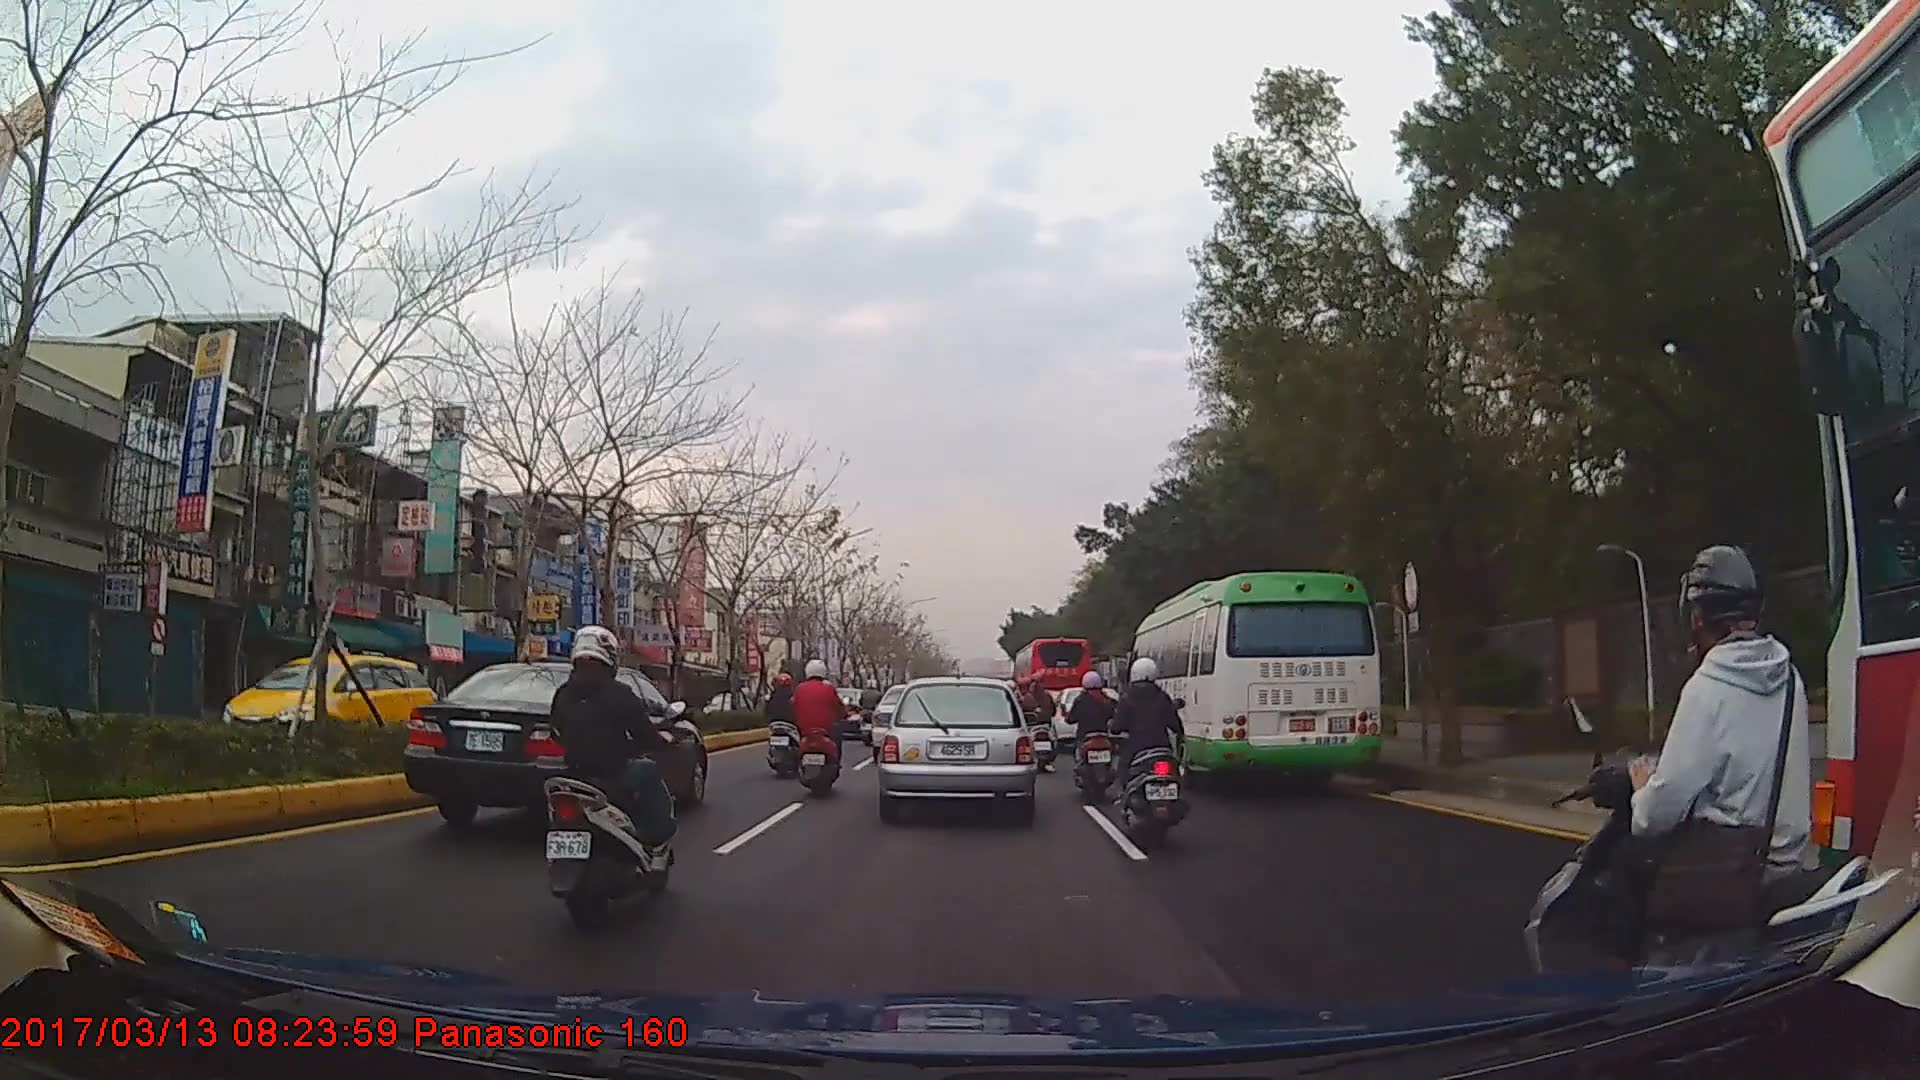rider: (1524, 538, 1890, 1015), (542, 623, 683, 926), (1114, 657, 1192, 847), (790, 658, 844, 800), (1064, 668, 1121, 803), (765, 672, 805, 779), (1016, 670, 1055, 773), (859, 679, 883, 746)
vehicle: (1124, 572, 1384, 797), (403, 660, 710, 836), (216, 636, 436, 768), (879, 676, 1033, 820), (1011, 632, 1095, 728)
